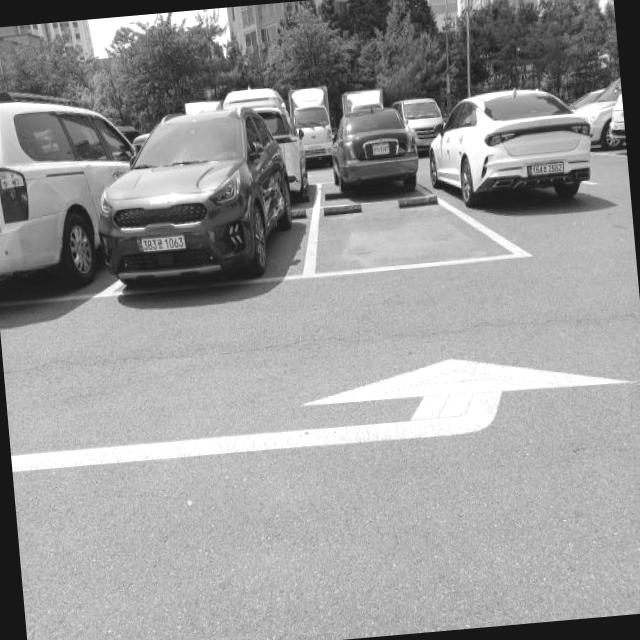car: (88, 100, 300, 297), (428, 82, 596, 212), (328, 104, 421, 198)
free: (299, 184, 501, 289)
